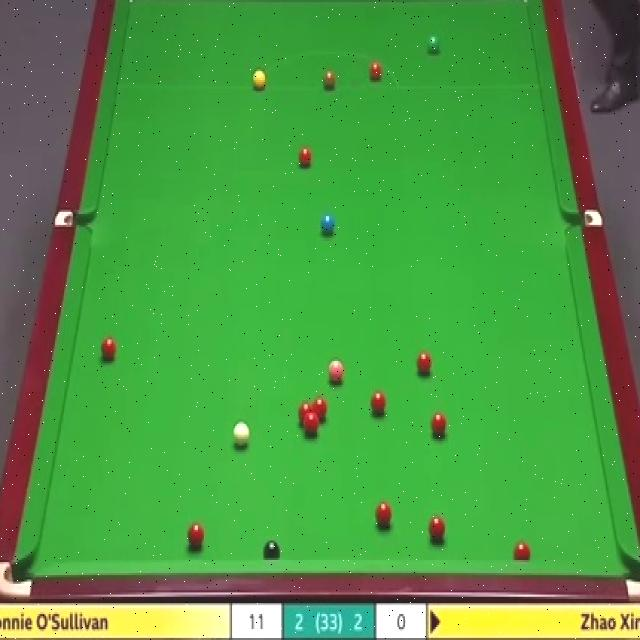black-ball: (263, 540, 280, 560)
blue-ball: (320, 212, 335, 237)
brown-ball: (321, 67, 336, 92)
green-ball: (424, 35, 441, 56)
pink-ball: (328, 356, 345, 384)
red-ball: (99, 335, 118, 364), (415, 350, 433, 380), (187, 522, 205, 550), (427, 516, 445, 544), (375, 500, 392, 529), (429, 409, 446, 437), (296, 144, 314, 168), (370, 390, 386, 417), (313, 398, 328, 424), (514, 540, 531, 562), (304, 415, 318, 437), (298, 402, 312, 424), (368, 61, 382, 81)
white-ball: (231, 419, 251, 454)
yellow-ball: (251, 68, 266, 90)
